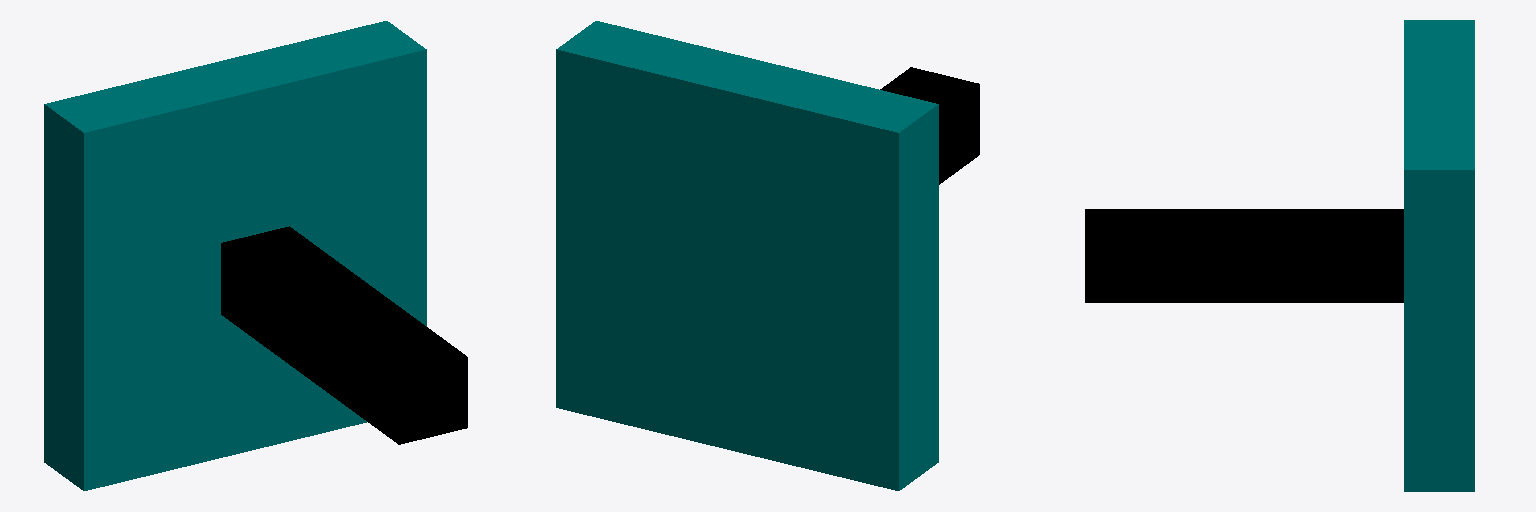
robot.urdf — ur5_robotiq_140:
<?xml version="1.0" ?>
<!-- =================================================================================== -->
<!-- |    This document was autogenerated by xacro from sisbot.xacro                   | -->
<!-- |    EDITING THIS FILE BY HAND IS NOT RECOMMENDED                                 | -->
<!-- =================================================================================== -->
<robot name="ur5_robotiq_140" xmlns:xacro="http://ros.org/wiki/xacro">
  <!--################################################
  ########              arm                    #######
  ####################################################-->

  <link name="base_link">
    <visual>
      <geometry>
        <mesh filename="../meshes/ur5/visual/base.obj"/>
      </geometry>
      <material name="LightGrey">
        <color rgba="0.7 0.7 0.7 1.0"/>
      </material>
    </visual>
    <collision>
      <geometry>
        <mesh filename="../meshes/ur5/collision/base.stl"/>
      </geometry>
    </collision>
    <inertial>
      <mass value="4.0"/>
      <origin rpy="0 0 0" xyz="0.0 0.0 0.0"/>
      <inertia ixx="0.00443333156" ixy="0.0" ixz="0.0" iyy="0.00443333156" iyz="0.0" izz="0.0072"/>
    </inertial>
  </link>

  <joint name="shoulder_pan_joint" type="revolute">
    <parent link="base_link"/>
    <child link="shoulder_link"/>
    <origin rpy="0.0 0.0 0.0" xyz="0.0 0.0 0.089159"/>
    <axis xyz="0 0 1"/>
    <limit effort="150.0" lower="-3.14159265359" upper="3.14159265359" velocity="3.15"/>
    <dynamics damping="0.0" friction="0.0"/>
  </joint>
  <link name="shoulder_link">
    <visual>
      <geometry>
        <mesh filename="../meshes/ur5/visual/shoulder.obj"/>
      </geometry>
      <material name="DarkGray">
        <color rgba="0.5 0.5 0.5 1.0"/>
      </material>
    </visual>
    <collision>
      <geometry>
        <mesh filename="../meshes/ur5/collision/shoulder.stl"/>
      </geometry>
    </collision>
    <inertial>
      <mass value="3.7"/>
      <origin rpy="0 0 0" xyz="0.0 0.0 0.0"/>
      <inertia ixx="0.010267495893" ixy="0.0" ixz="0.0" iyy="0.010267495893" iyz="0.0" izz="0.00666"/>
    </inertial>
  </link>
  <joint name="shoulder_lift_joint" type="revolute">
    <parent link="shoulder_link"/>
    <child link="upper_arm_link"/>
    <origin rpy="0.0 1.57079632679 0.0" xyz="0.0 0.13585 0.0"/>
    <axis xyz="0 1 0"/>
    <limit effort="150.0" lower="-3.14159265359" upper="3.14159265359" velocity="3.15"/>
    <dynamics damping="0.0" friction="0.0"/>
  </joint>
  <link name="upper_arm_link">
    <visual>
      <geometry>
        <mesh filename="../meshes/ur5/visual/upperarm.obj"/>
      </geometry>
      <material name="LightGrey">
        <color rgba="0.7 0.7 0.7 1.0"/>
      </material>
    </visual>
    <collision>
      <geometry>
        <mesh filename="../meshes/ur5/collision/upperarm.stl"/>
      </geometry>
    </collision>
    <inertial>
      <mass value="8.393"/>
      <origin rpy="0 0 0" xyz="0.0 0.0 0.28"/>
      <inertia ixx="0.22689067591" ixy="0.0" ixz="0.0" iyy="0.22689067591" iyz="0.0" izz="0.0151074"/>
    </inertial>
  </link>
  <joint name="elbow_joint" type="revolute">
    <parent link="upper_arm_link"/>
    <child link="forearm_link"/>
    <origin rpy="0.0 0.0 0.0" xyz="0.0 -0.1197 0.425"/>
    <axis xyz="0 1 0"/>
    <limit effort="150.0" lower="-3.14159265359" upper="3.14159265359" velocity="3.15"/>
    <dynamics damping="0.0" friction="0.0"/>
  </joint>
  <link name="forearm_link">
    <visual>
      <geometry>
        <mesh filename="../meshes/ur5/visual/forearm.obj"/>
      </geometry>
      <material name="LightGrey">
        <color rgba="0.7 0.7 0.7 1.0"/>
      </material>
    </visual>
    <collision>
      <geometry>
        <mesh filename="../meshes/ur5/collision/forearm.stl"/>
      </geometry>
    </collision>
    <inertial>
      <mass value="2.275"/>
      <origin rpy="0 0 0" xyz="0.0 0.0 0.25"/>
      <inertia ixx="0.049443313556" ixy="0.0" ixz="0.0" iyy="0.049443313556" iyz="0.0" izz="0.004095"/>
    </inertial>
  </link>
  <joint name="wrist_1_joint" type="revolute">
    <parent link="forearm_link"/>
    <child link="wrist_1_link"/>
    <origin rpy="0.0 1.57079632679 0.0" xyz="0.0 0.0 0.39225"/>
    <axis xyz="0 1 0"/>
    <limit effort="28.0" lower="-3.14159265359" upper="3.14159265359" velocity="3.2"/>
    <dynamics damping="0.0" friction="0.0"/>
  </joint>
  <link name="wrist_1_link">
    <visual>
      <geometry>
        <mesh filename="../meshes/ur5/visual/wrist1.obj"/>
      </geometry>
      <material name="DarkGray">
        <color rgba="0.5 0.5 0.5 1.0"/>
      </material>
    </visual>
    <collision>
      <geometry>
        <mesh filename="../meshes/ur5/collision/wrist1.stl"/>
      </geometry>
    </collision>
    <inertial>
      <mass value="1.219"/>
      <origin rpy="0 0 0" xyz="0.0 0.0 0.0"/>
      <inertia ixx="0.111172755531" ixy="0.0" ixz="0.0" iyy="0.111172755531" iyz="0.0" izz="0.21942"/>
    </inertial>
  </link>
  <joint name="wrist_2_joint" type="revolute">
    <parent link="wrist_1_link"/>
    <child link="wrist_2_link"/>
    <origin rpy="0.0 0.0 0.0" xyz="0.0 0.093 0.0"/>
    <axis xyz="0 0 1"/>
    <limit effort="28.0" lower="-3.14159265359" upper="3.14159265359" velocity="3.2"/>
    <dynamics damping="0.0" friction="0.0"/>
  </joint>
  <link name="wrist_2_link">
    <visual>
      <geometry>
        <mesh filename="../meshes/ur5/visual/wrist2.obj"/>
      </geometry>
      <material name="DarkGray">
        <color rgba="0.5 0.5 0.5 1.0"/>
      </material>
    </visual>
    <collision>
      <geometry>
        <mesh filename="../meshes/ur5/collision/wrist2.stl"/>
      </geometry>
    </collision>
    <inertial>
      <mass value="1.219"/>
      <origin rpy="0 0 0" xyz="0.0 0.0 0.0"/>
      <inertia ixx="0.111172755531" ixy="0.0" ixz="0.0" iyy="0.111172755531" iyz="0.0" izz="0.21942"/>
    </inertial>
  </link>
  <joint name="wrist_3_joint" type="revolute">
    <parent link="wrist_2_link"/>
    <child link="wrist_3_link"/>
    <origin rpy="0.0 0.0 0.0" xyz="0.0 0.0 0.09465"/>
    <axis xyz="0 1 0"/>
    <limit effort="28.0" lower="-3.14159265359" upper="3.14159265359" velocity="3.2"/>
    <dynamics damping="0.0" friction="0.0"/>
  </joint>
  <link name="wrist_3_link">
    <visual>
      <geometry>
        <mesh filename="../meshes/ur5/visual/wrist3.obj"/>
      </geometry>
      <material name="LightGrey">
        <color rgba="0.7 0.7 0.7 1.0"/>
      </material>
    </visual>
    <collision>
      <geometry>
        <mesh filename="../meshes/ur5/collision/wrist3.stl"/>
      </geometry>
    </collision>
    <inertial>
      <mass value="0.1879"/>
      <origin rpy="0 0 0" xyz="0.0 0.0 0.0"/>
      <inertia ixx="0.0171364731454" ixy="0.0" ixz="0.0" iyy="0.0171364731454" iyz="0.0" izz="0.033822"/>
    </inertial>
  </link>
  <joint name="ee_fixed_joint" type="fixed">
    <parent link="wrist_3_link"/>
    <child link="ee_link"/>
    <origin rpy="0.0 0.0 1.57079632679" xyz="0.0 0.0823 0.0"/>
  </joint>
  <link name="ee_link">
    <collision>
      <geometry>
        <box size="0.01 0.01 0.01"/>
      </geometry>
      <origin rpy="0 0 0" xyz="-0.01 0 0"/>
    </collision>
  </link>

 <joint name="suction_gripper_base" type="fixed">
    <!-- <origin rpy="0 0 3.14159265359" xyz="0 0 0.007"/> -->
    <origin rpy="0 0 0" xyz="0.0 0 0.0"/>    
    <parent link="ee_link"/>
    <child link="gripper_base"/>
  </joint>
  <link name="gripper_base">
    <inertial>
      <origin rpy="0 0 0" xyz="0 0 0"/>
      <mass value="0.1"/>
      <inertia ixx="0.0001" ixy="0" ixz="0" iyy="0.0001" iyz="0" izz="0.0001"/>
    </inertial>
    <visual>
      <origin xyz="0 0 0"/>
      <geometry>
        <box size="0.1 0.02 0.02" />
      </geometry>
      <material name="black">
        <color rgba="0 0 0 1.0"/>
      </material>
    </visual>
    <collision>
      <origin xyz="0 0 0"/>
      <geometry>
        <box size="0.1 0.02 0.02" />
      </geometry>
    </collision>
  </link>
<joint name="suction_gripper_surf" type="fixed">
    <!-- <origin rpy="0 0 3.14159265359" xyz="0 0 0.007"/> -->
    <origin rpy="0 0 0" xyz="0.05 0.0 0.0"/>    
    <parent link="gripper_base"/>
    <child link="gripper_surf"/>
  </joint>
  <link name="gripper_surf">
    <inertial>
      <origin rpy="0 0 0" xyz="0 0 0"/>
      <mass value="0.1"/>
      <inertia ixx="0.0001" ixy="0" ixz="0" iyy="0.0001" iyz="0" izz="0.0001"/>
    </inertial>
    <visual>
      <origin xyz="0 0 0"/>
      <geometry>
        <box size="0.02 0.1 0.1" />
        <!-- <box size="0.02 0.07 0.07" /> -->
        
      </geometry>
      <material name="blue">
        <color rgba="0. 0.5 0.5 1.0"/>
      </material>
    </visual>
    <!-- <collision>
      <origin xyz="0 0 0"/>
      <geometry>
        <box size="0.02 0.07 0.07" />
      </geometry>
    </collision> -->
  </link>
  


</robot>

--- Facts derived from the render (not from the file) ---
3 views of the same robot in one strip: view 1: azimuth 30°, elevation 25°; view 2: azimuth 150°, elevation 25°; view 3: azimuth 270°, elevation 25° (orthographic).
Robot: ur5_robotiq_140 — 10 links, 9 joints (6 revolute, 3 fixed); root link base_link; default pose: all joints at 0.
Links seen in each view (by area): view 1: gripper_surf, gripper_base; view 2: gripper_surf, gripper_base; view 3: gripper_surf, gripper_base.
Boxes of the visible links, box(x1,y1,x2,y2) form: gripper_surf: box(44, 21, 426, 490); gripper_base: box(221, 226, 467, 444); gripper_surf: box(556, 21, 938, 490); gripper_base: box(880, 67, 979, 184); gripper_surf: box(1404, 20, 1474, 491); gripper_base: box(1085, 209, 1403, 302).
Bounding box of the posed robot: 0.1 × 0.11 × 0.1 m (x, y, z).
0 mesh visuals loaded from 7 distinct referenced files (none loaded); not drawn: 7 (reference not matched to a file when rendering).